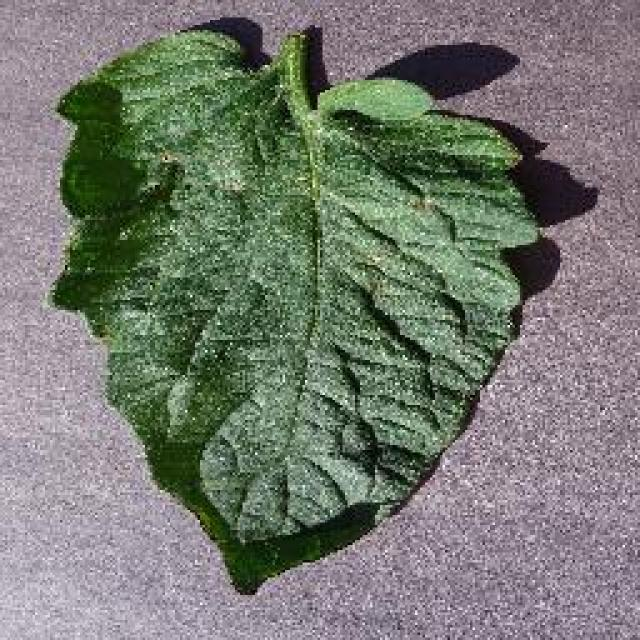Tomato___Target_Spot: (52, 28, 542, 592)
